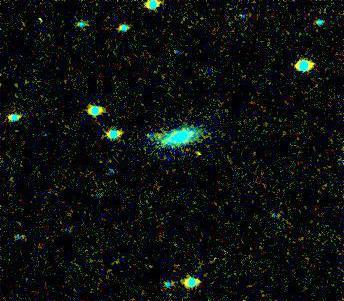star: (186, 136, 216, 166)
